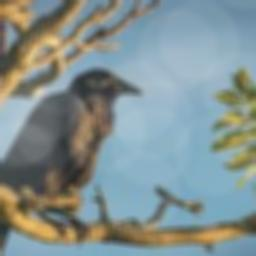Crow: (0, 68, 143, 256)
